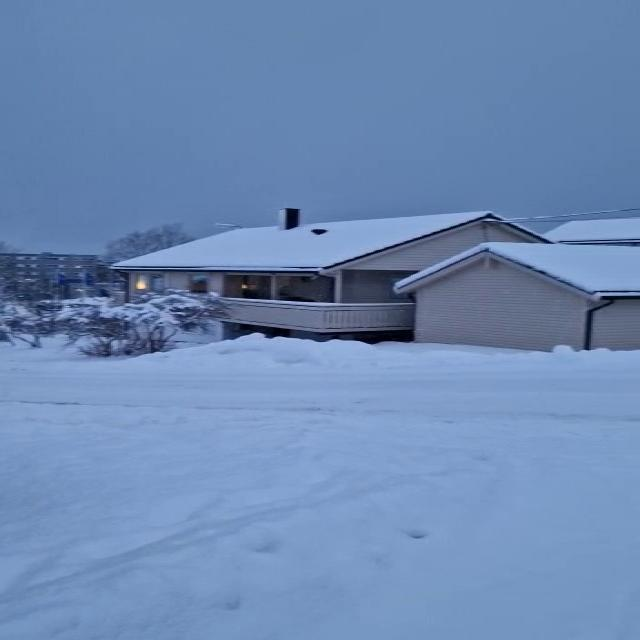path: (0, 362, 640, 423)
